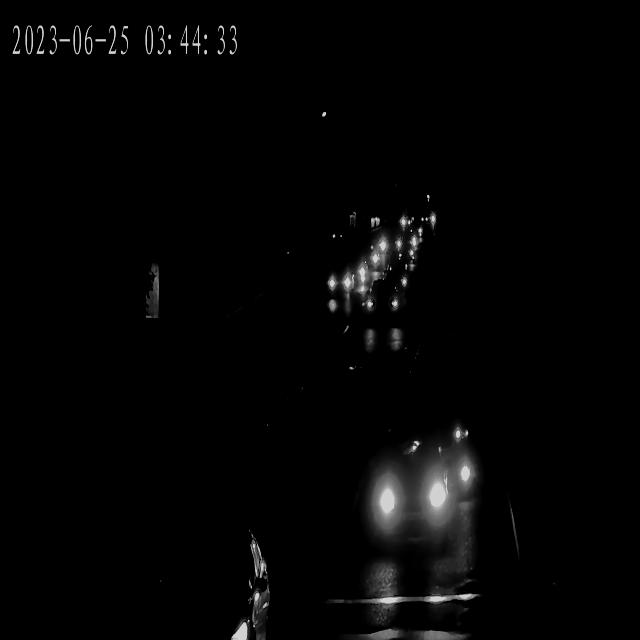Car: (155, 530, 275, 640), (408, 375, 482, 512), (360, 455, 455, 541), (362, 282, 407, 324), (323, 265, 360, 297), (348, 249, 376, 281), (384, 254, 409, 289), (399, 212, 423, 239), (397, 230, 418, 259), (373, 233, 388, 250)
